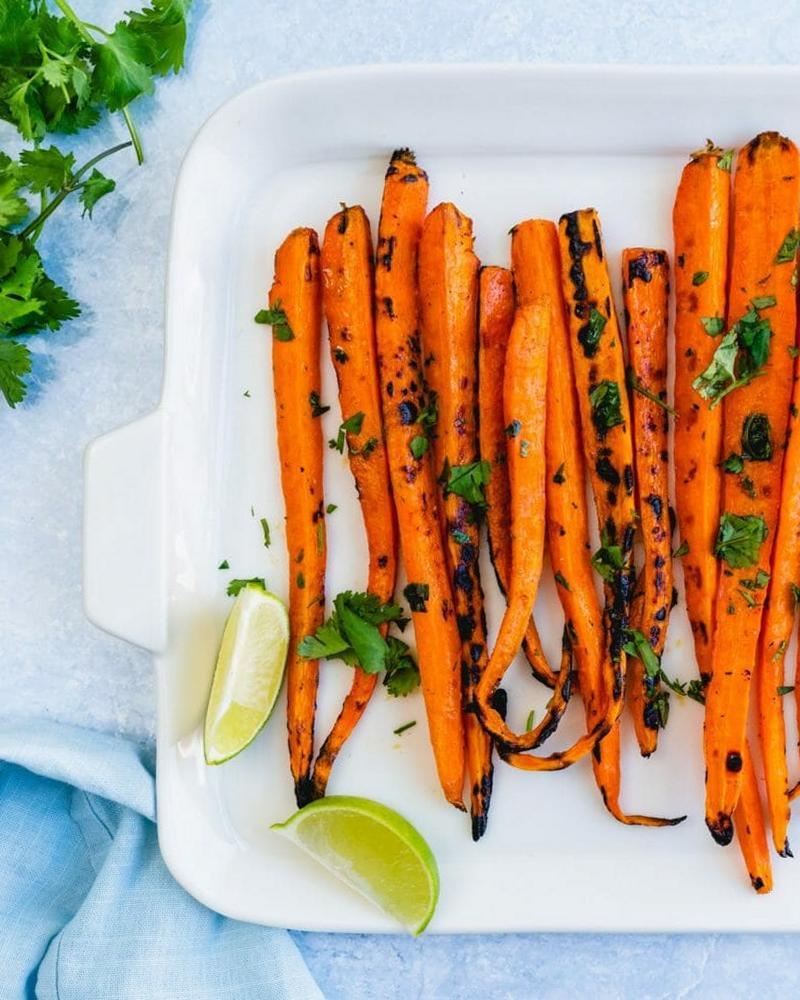carrot: (265, 190, 800, 857)
